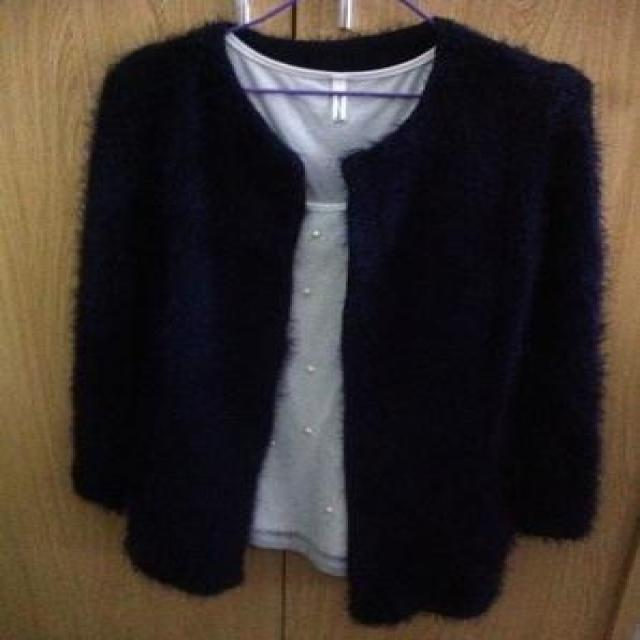long sleeve outwear: (73, 18, 606, 626)
